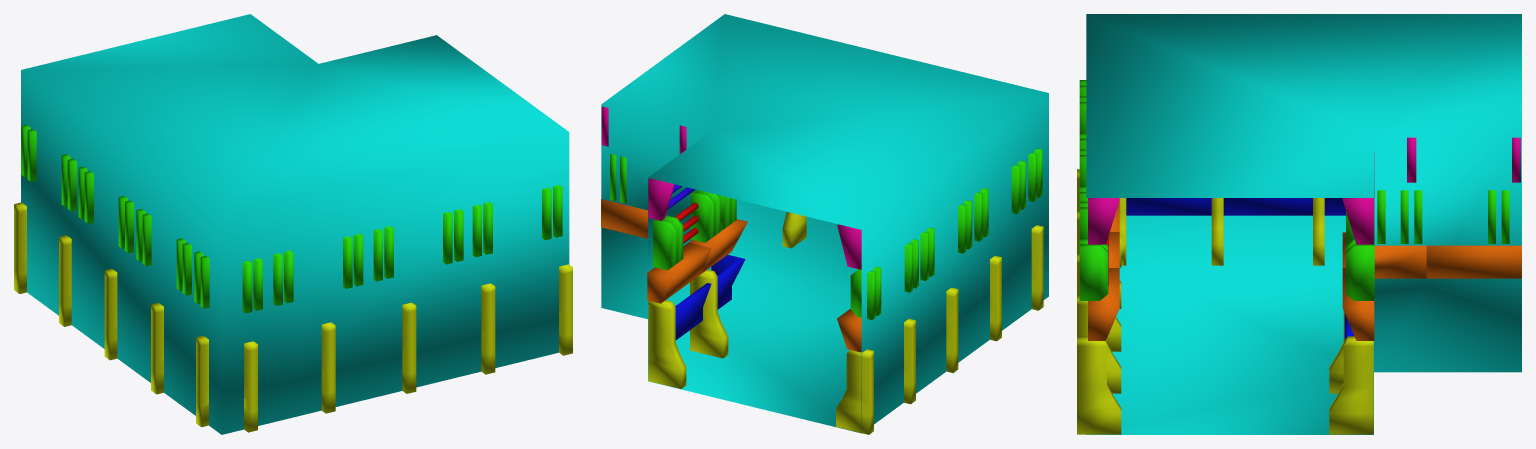
The model's file is road_gguck.fbx.
3 views of the same model, side by side, from view 1: azimuth 30°, elevation 25°; view 2: azimuth 150°, elevation 25°; view 3: azimuth 270°, elevation 25° (orthographic). The views are drawn at different scales.
Parts seen in each view (by area): view 1: Box003; view 2: Box003; view 3: Box003.
Boxes of the visible parts, box(x1,y1,x2,y2) form: Box003: box(14, 14, 572, 434); Box003: box(601, 14, 1048, 434); Box003: box(1077, 14, 1521, 434).
Bounding box in the file's own units: 101 × 59.29 × 101.
